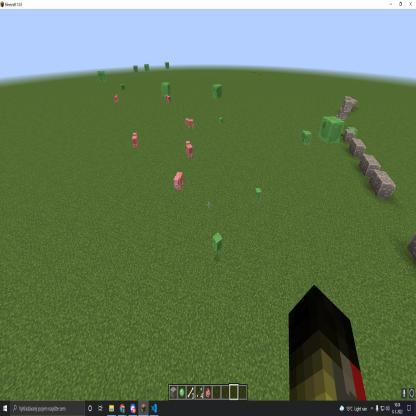pig: (169, 166, 188, 197), (182, 138, 198, 162), (184, 112, 198, 132), (129, 131, 141, 151), (110, 90, 122, 106), (165, 93, 173, 104)
